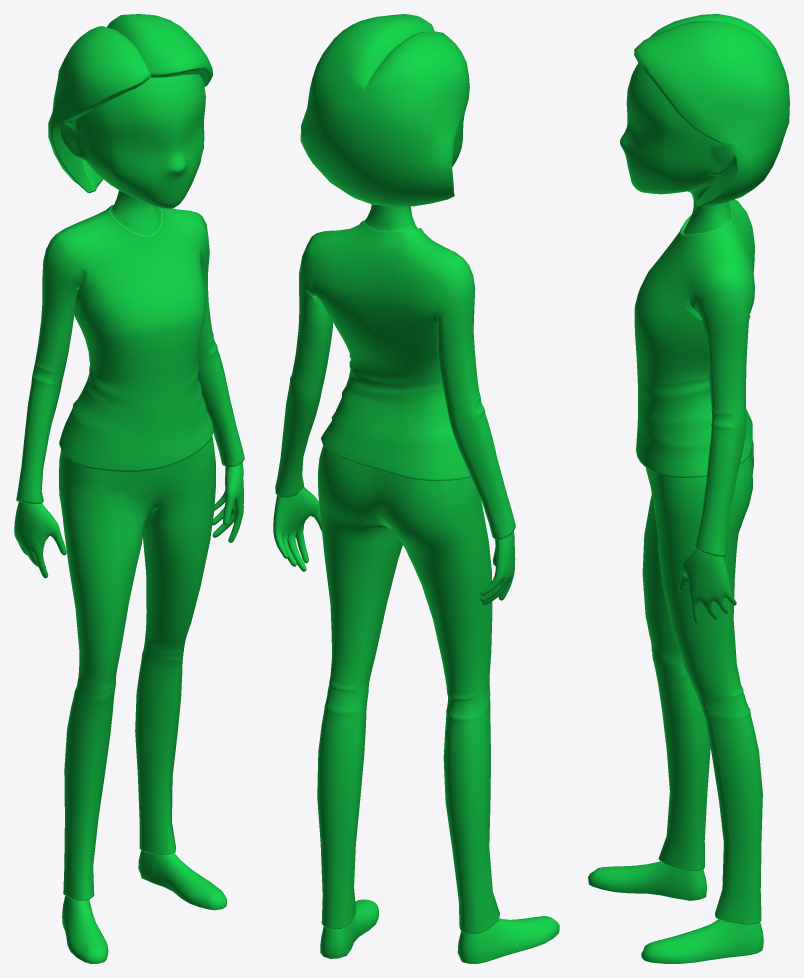
Rendered from mujer.glb.
3 views of the same model, side by side, from view 1: azimuth 30°, elevation 25°; view 2: azimuth 150°, elevation 25°; view 3: azimuth 270°, elevation 25° (orthographic). The views are drawn at different scales.
Visible parts, largest first — view 1: mesh_id56; view 2: mesh_id56; view 3: mesh_id56.
Boxes of the visible parts, x1,y1,x2,y2 form: mesh_id56: (14, 14, 244, 963); mesh_id56: (273, 14, 559, 963); mesh_id56: (588, 14, 789, 963).
Bounding box in the file's own units: 0.1341 × 0.502 × 0.101.
1 material, 1 textured.
